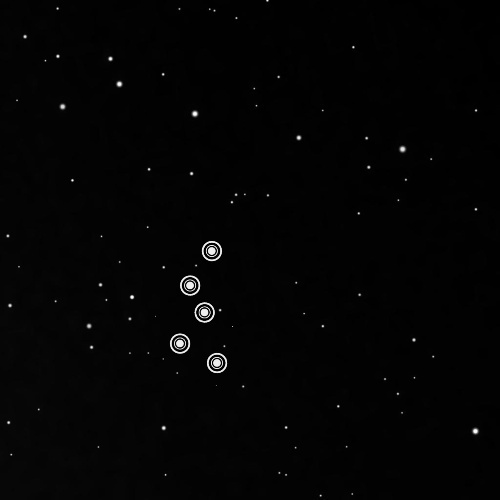cassiopeia: (162, 228, 238, 386)
